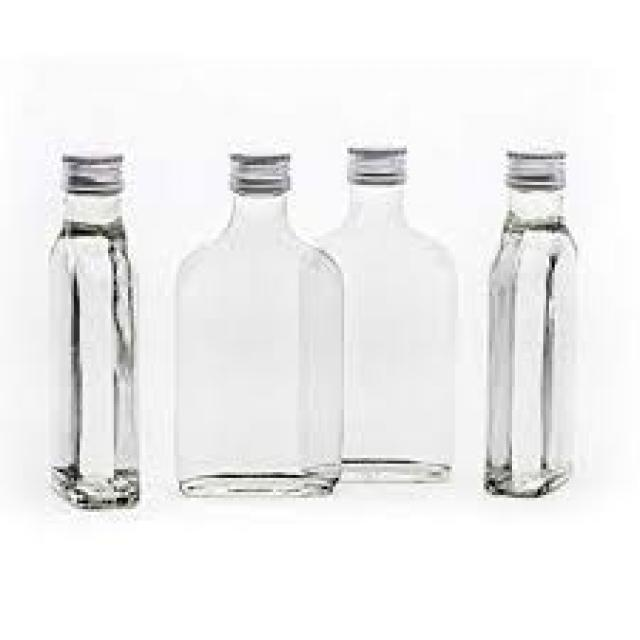Glass-Non-Biodegradable but Recyclable-: (170, 149, 345, 499), (58, 152, 142, 510)
